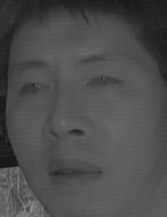eye: (84, 71, 122, 94), (16, 78, 52, 99)
mouth: (44, 153, 104, 191)
